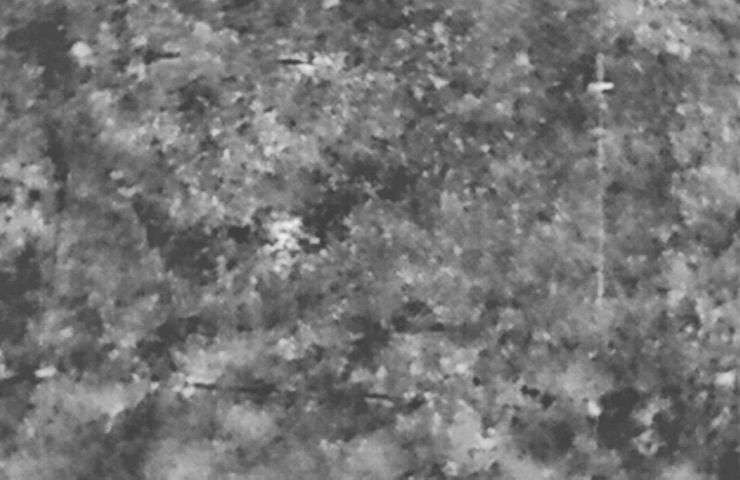landmines: (264, 214, 316, 260)
